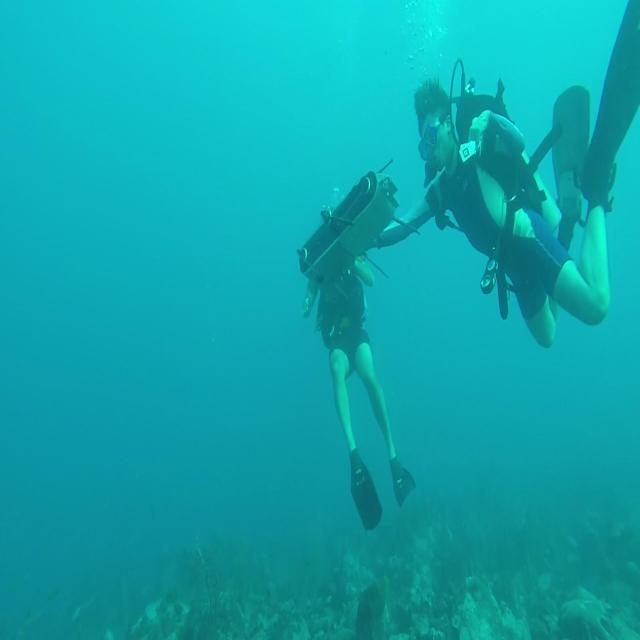human: (376, 66, 612, 349), (297, 166, 417, 531)
